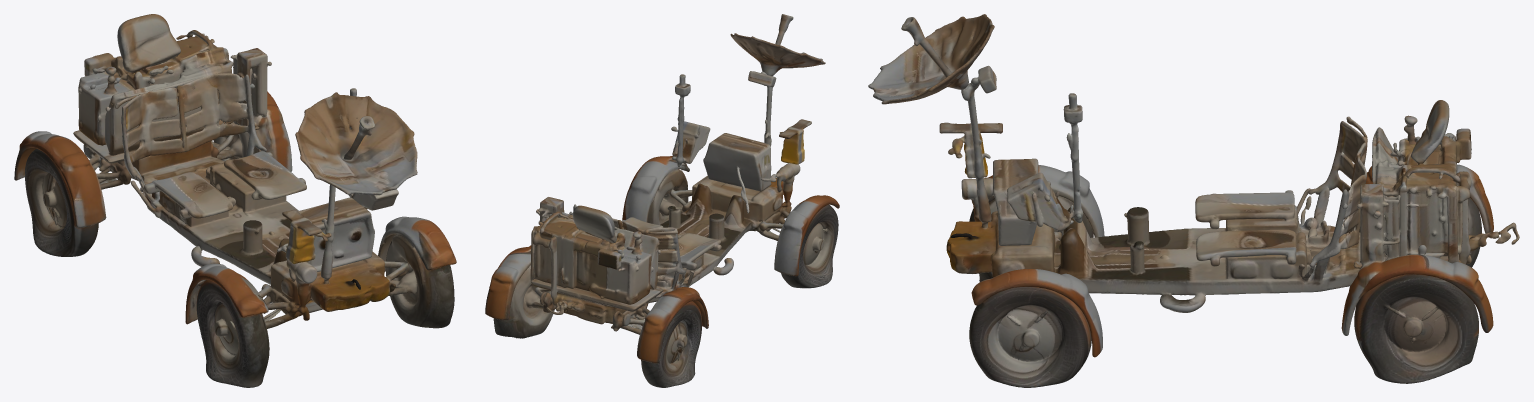
Rendered from apollo-lunar-roving-vehicle.meshopt-test.glb.
The picture shows the model from 3 angles, left to right: view 1: azimuth 30°, elevation 25°; view 2: azimuth 150°, elevation 25°; view 3: azimuth 270°, elevation 25°; orthographic projection. The views are drawn at different scales.
Parts seen in each view (by area): view 1: tripo_node_3aba2f8f-1b6a-4baf-87e4-0ced17f0a231; view 2: tripo_node_3aba2f8f-1b6a-4baf-87e4-0ced17f0a231; view 3: tripo_node_3aba2f8f-1b6a-4baf-87e4-0ced17f0a231.
Part boxes in pixels (<box>): tripo_node_3aba2f8f-1b6a-4baf-87e4-0ced17f0a231: <box>14,14,456,387</box>; tripo_node_3aba2f8f-1b6a-4baf-87e4-0ced17f0a231: <box>485,14,839,387</box>; tripo_node_3aba2f8f-1b6a-4baf-87e4-0ced17f0a231: <box>868,14,1519,387</box>.
Size of the model in its own units: 0.4733 by 0.5279 by 1.
1 material, 1 textured.
